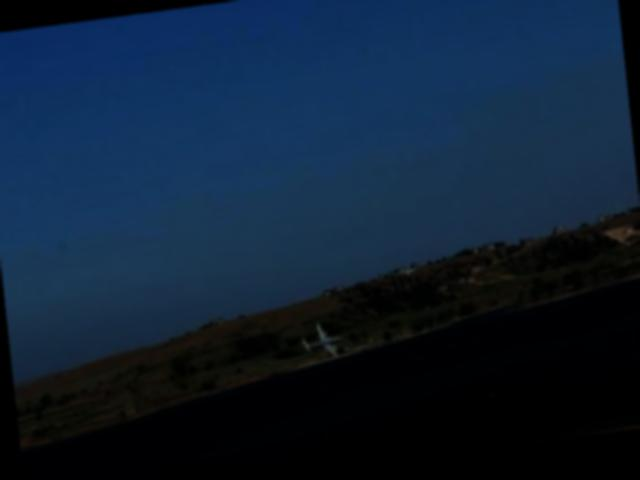iha: (300, 320, 347, 362)
